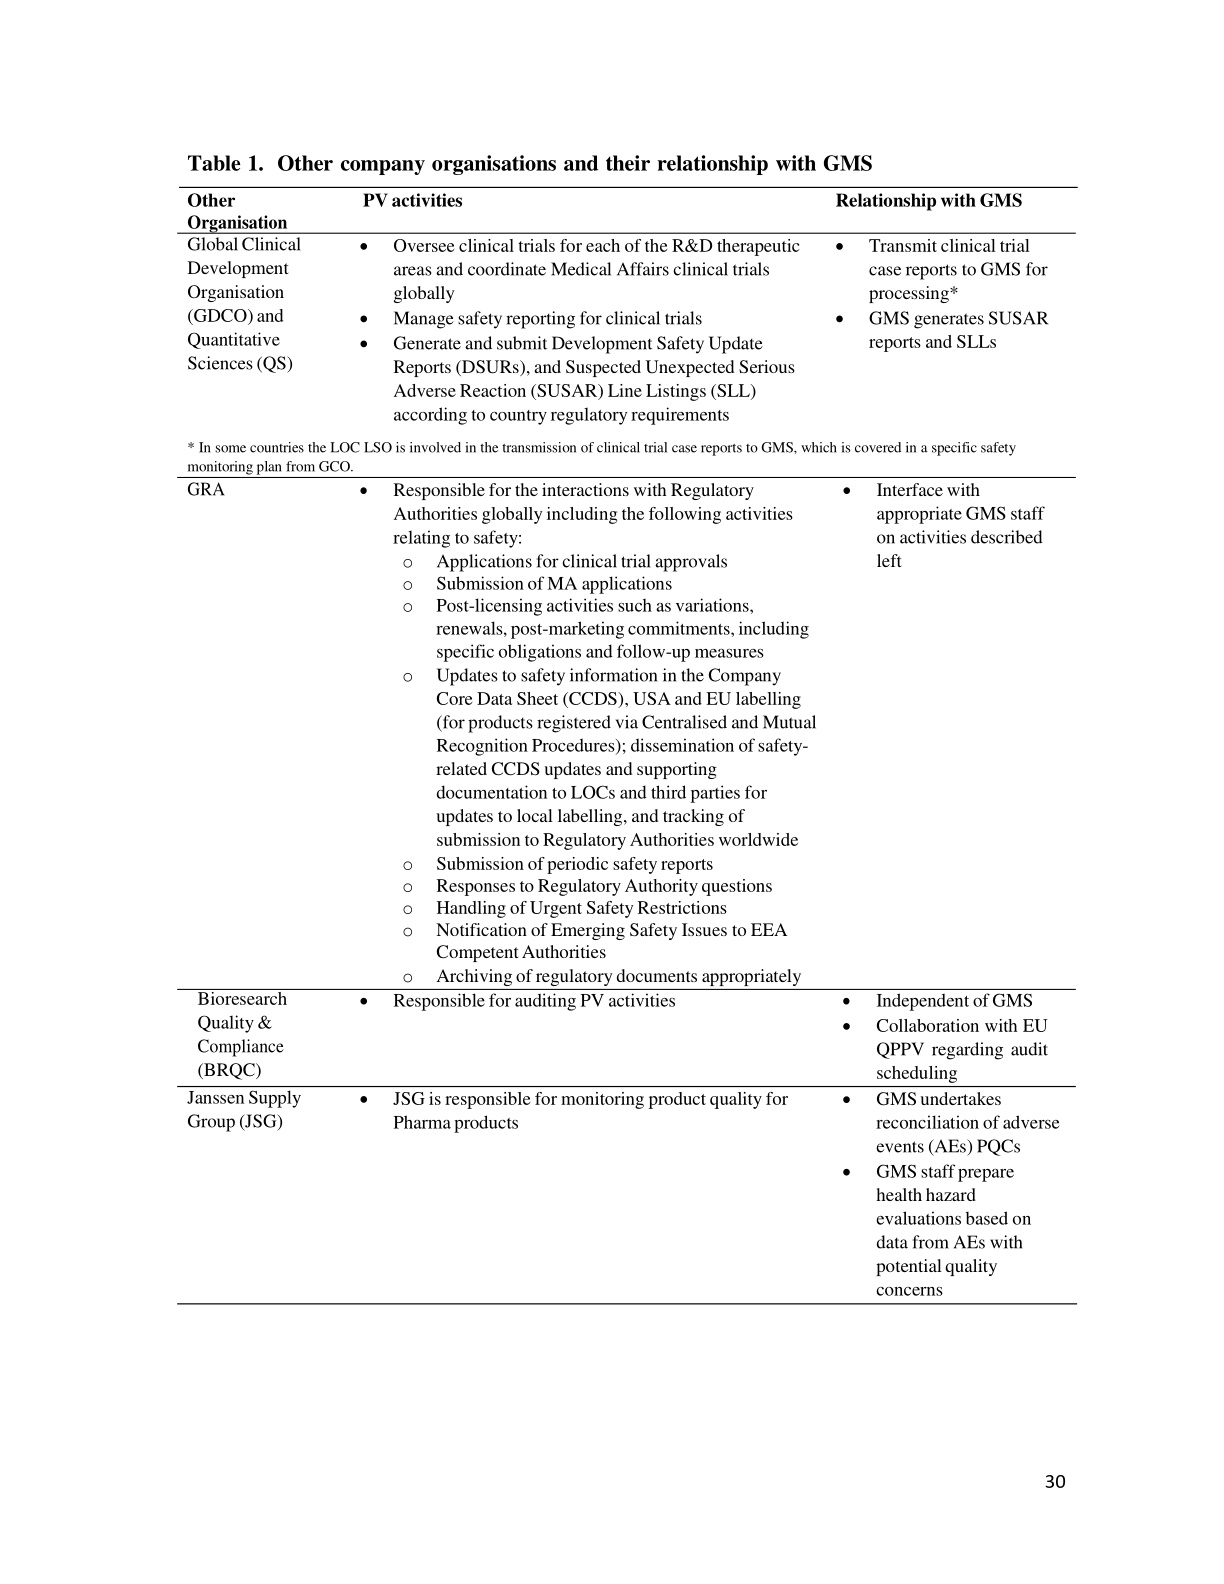partial_lined_merged_cells: (177, 185, 1077, 1306)
